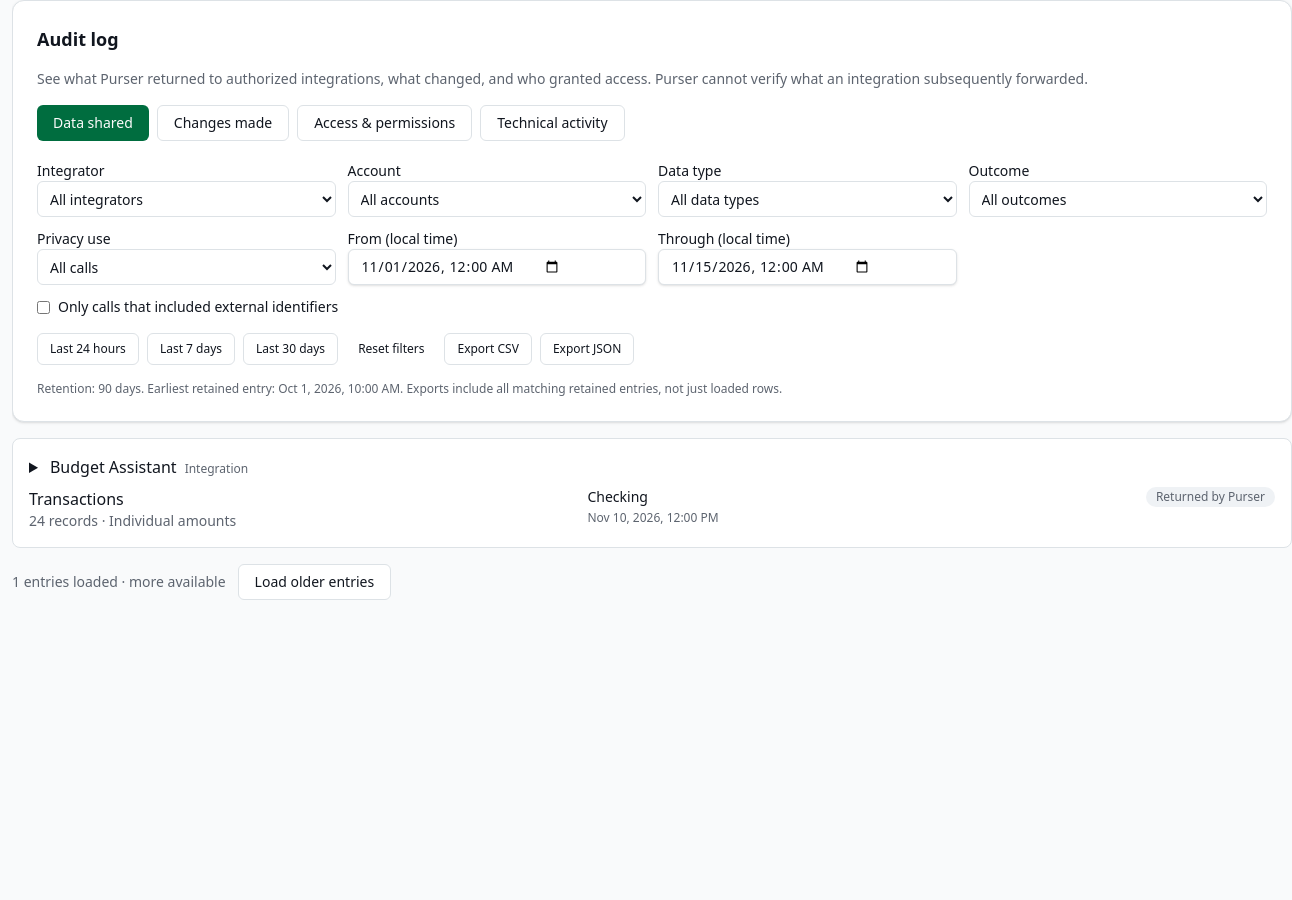
Audit Log › loads additional pages and keeps a fixed review window
The width and height of the screenshot is (1292, 900).
Click the button "Load older entries" at (314, 582), box top-left (238, 564), bottom-right (391, 600)
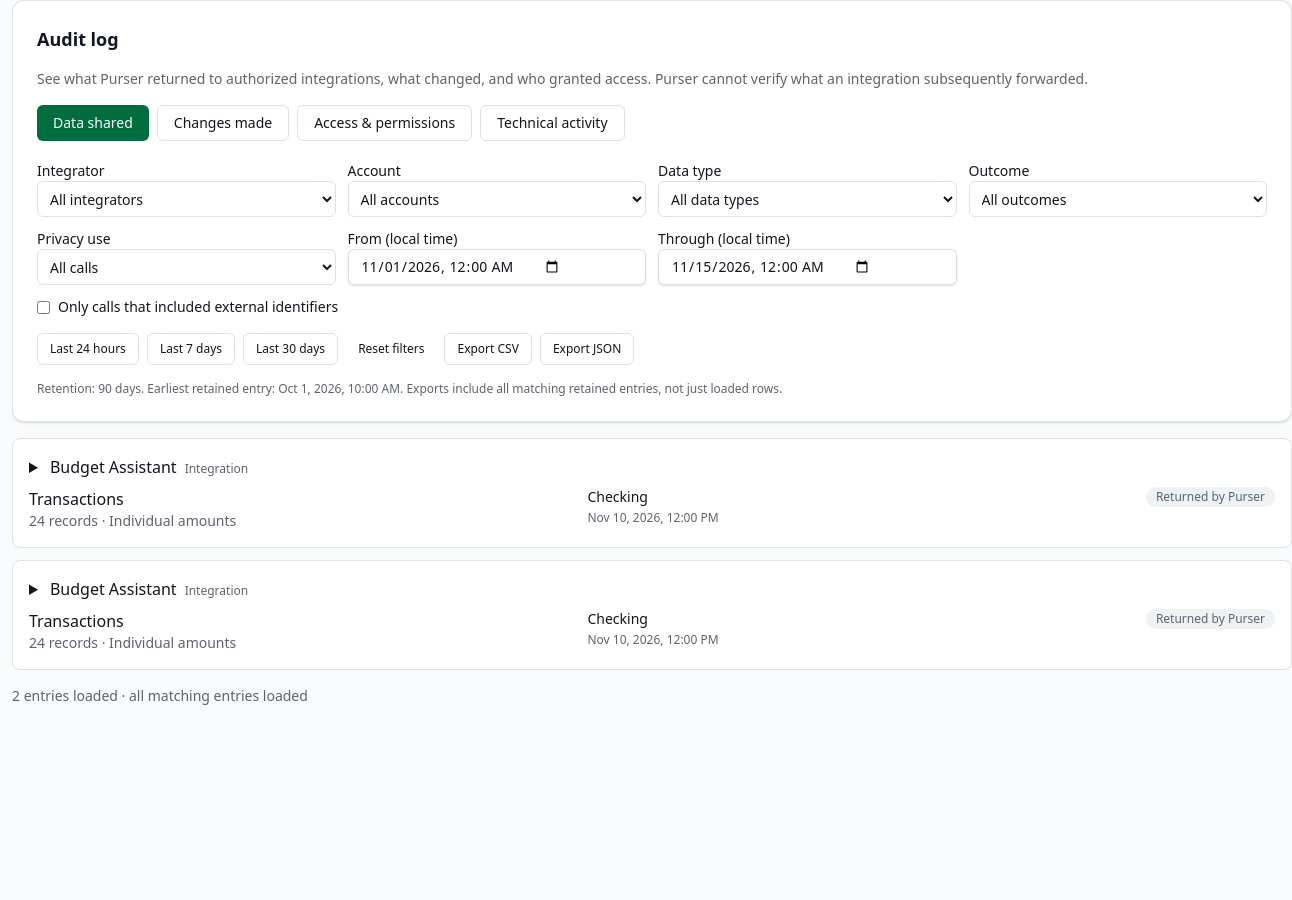
Check: the text "2 entries loaded · all matching entries loaded" is shown, box top-left (12, 686), bottom-right (308, 706)
